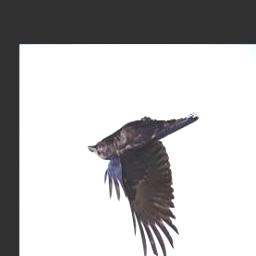Crow: (87, 114, 199, 256)
